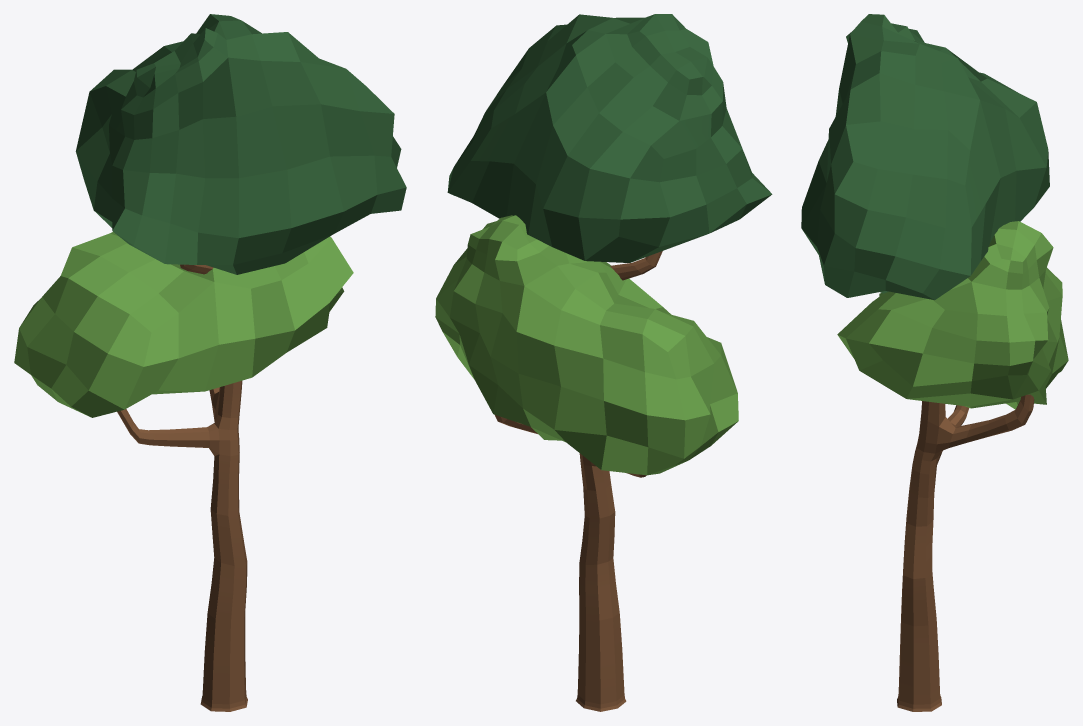
The model's file is CommonTree_3.glb.
The picture shows the model from 3 angles, left to right: view 1: azimuth 30°, elevation 25°; view 2: azimuth 150°, elevation 25°; view 3: azimuth 270°, elevation 25°; orthographic projection. The views are drawn at different scales.
Visible parts, largest first — view 1: CommonTree_3; view 2: CommonTree_3; view 3: CommonTree_3.
Boxes of the visible parts, x1,y1,x2,y2 form: CommonTree_3: (14,14,406,711); CommonTree_3: (435,14,772,711); CommonTree_3: (801,14,1068,711).
Size of the model in its own units: 3.04 by 6.59 by 2.38.
